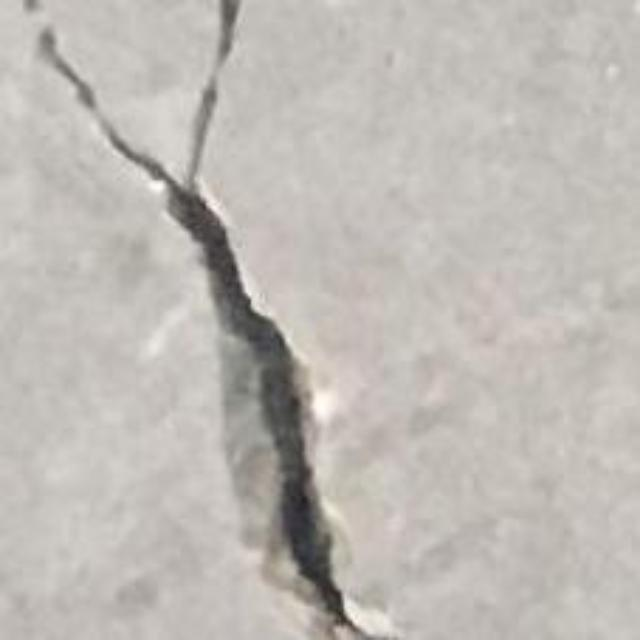crack: (40, 0, 389, 639)
